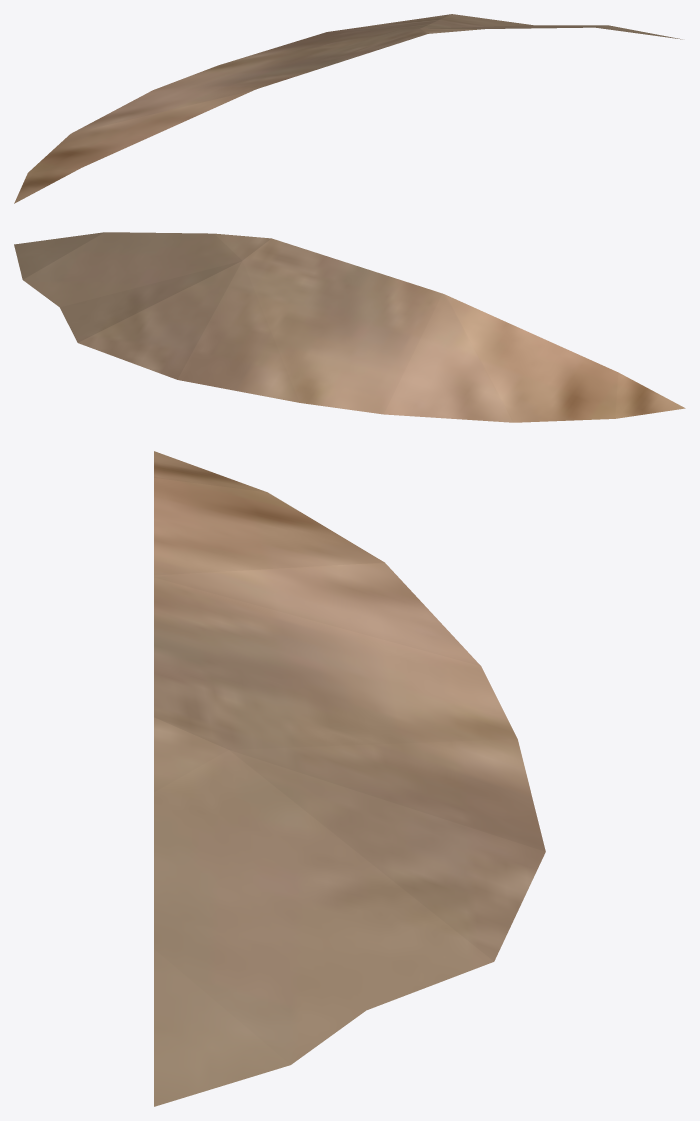
3 views of the same model, one above another, from view 1: azimuth 30°, elevation 25°; view 2: azimuth 150°, elevation 25°; view 3: azimuth 270°, elevation 25° (orthographic). The views are drawn at different scales.
Size of the model in its own units: 0.5606 by 0.055 by 0.1415.
Materials: 1 (1 with a texture image).
